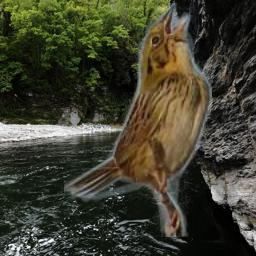Sparrow: (64, 3, 212, 237)
